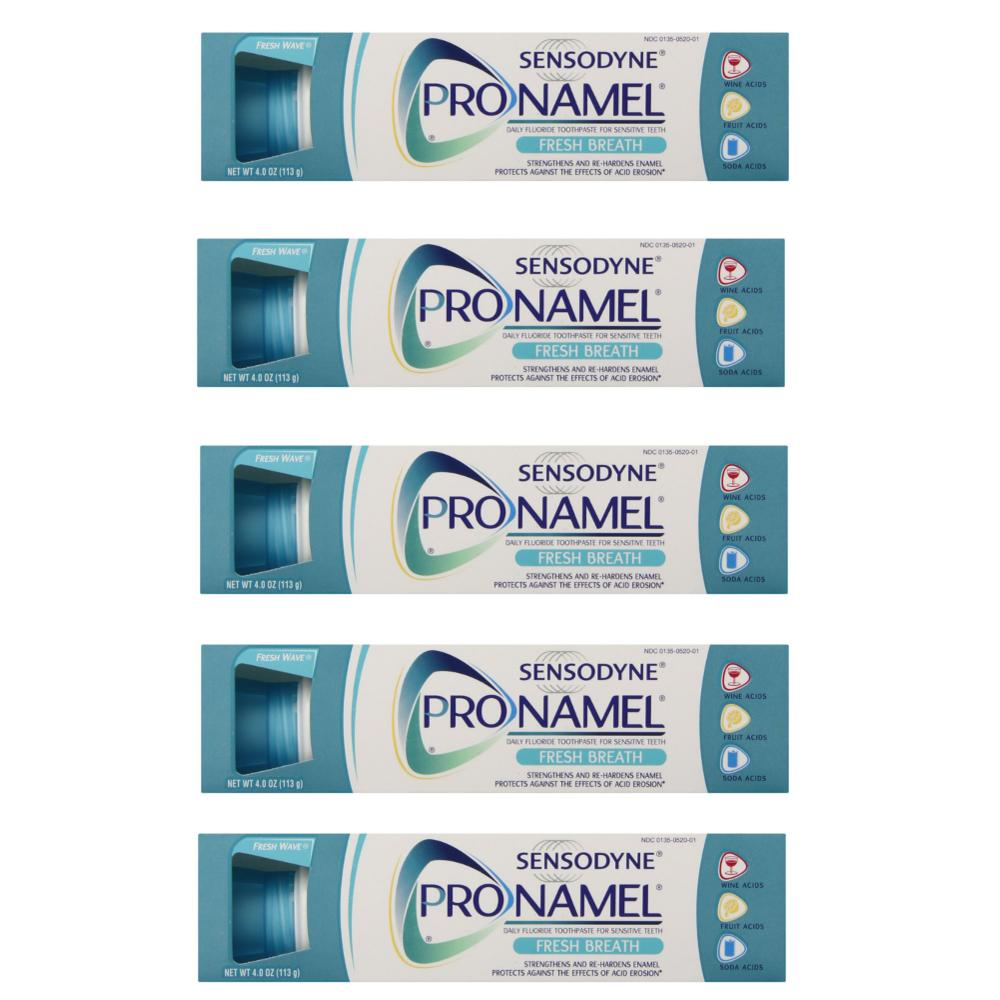toothpaste: (202, 19, 789, 188), (199, 439, 786, 600), (191, 831, 784, 985), (199, 641, 794, 794), (197, 242, 794, 389)
